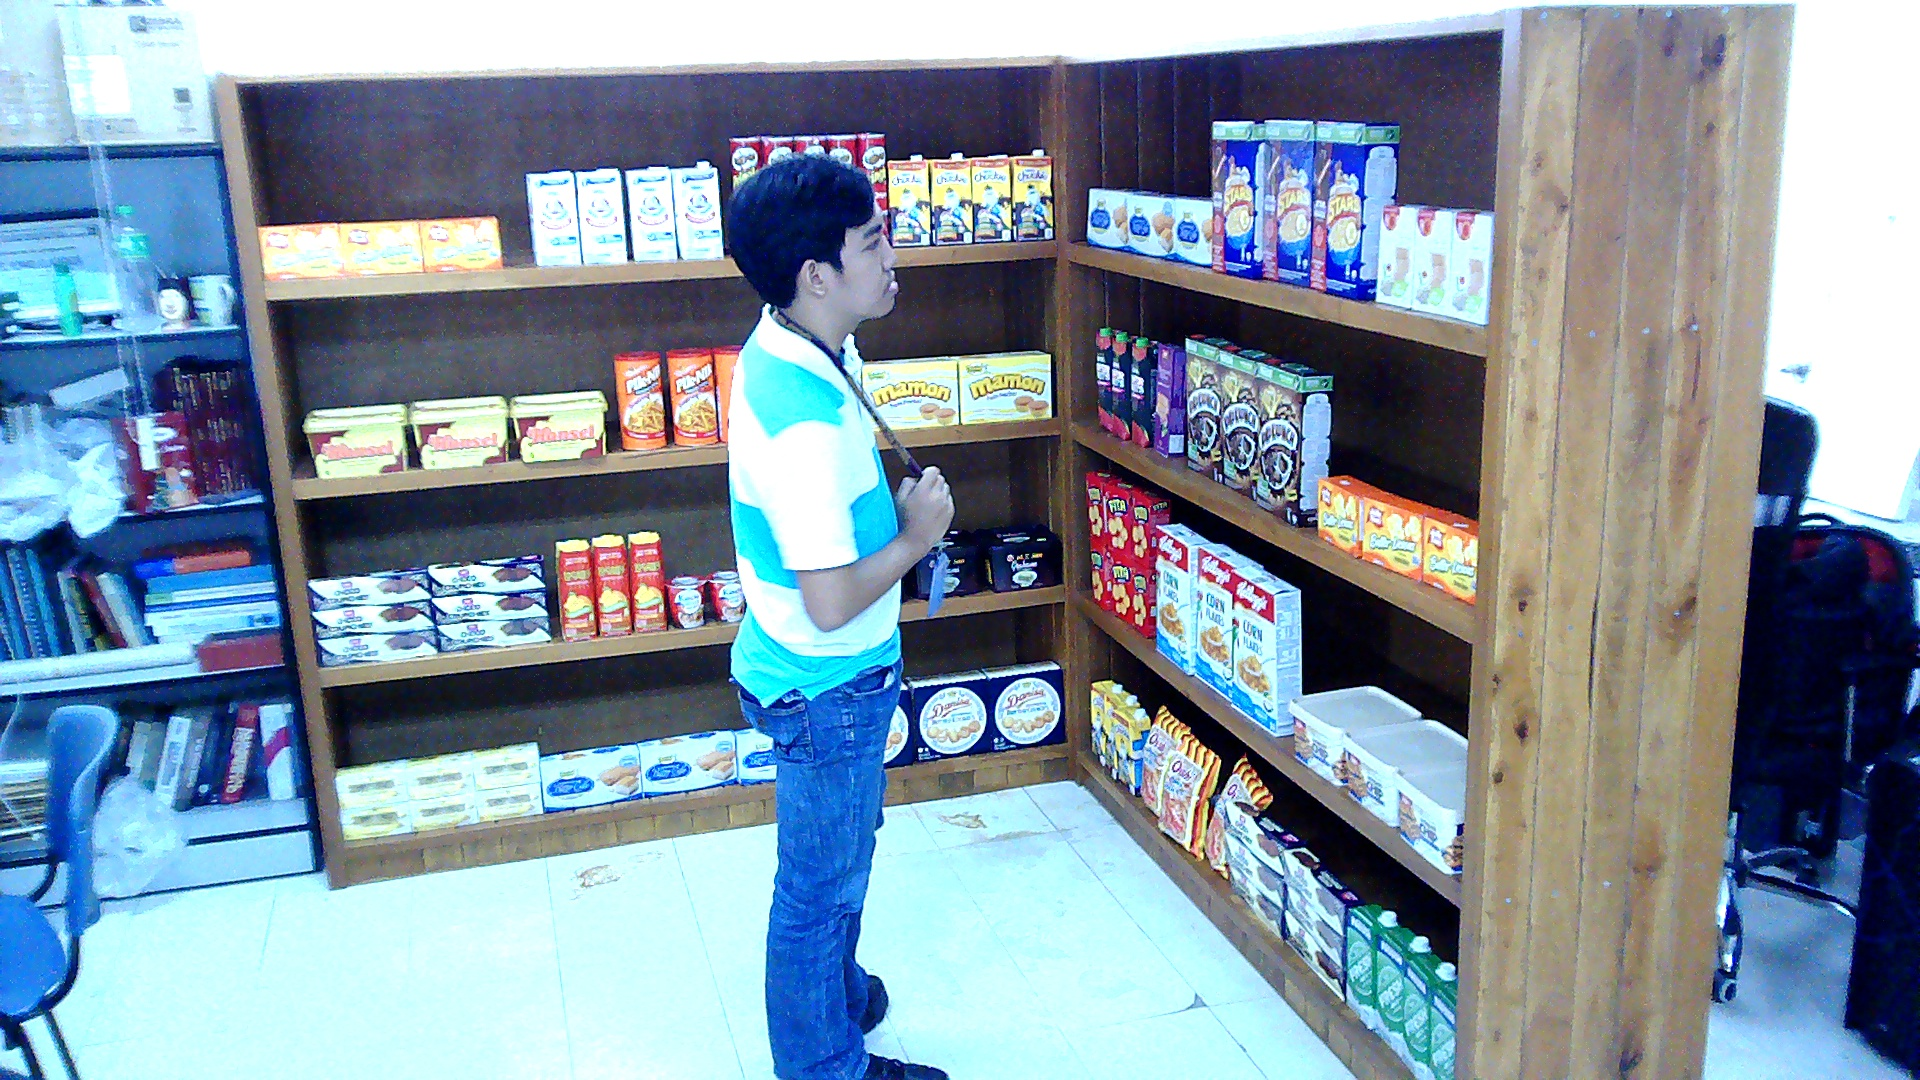Bear brand: (524, 168, 581, 265), (624, 164, 678, 258), (671, 159, 722, 258), (573, 169, 624, 261)
Buttercake: (540, 742, 642, 812), (635, 729, 734, 797), (1086, 189, 1152, 252), (1128, 193, 1185, 261), (732, 727, 777, 783), (1173, 196, 1209, 266)
Butterlicious: (1361, 495, 1448, 578), (1314, 472, 1392, 555), (1422, 513, 1479, 603), (258, 223, 342, 279), (420, 216, 501, 270), (339, 220, 423, 272)
Camomille: (333, 758, 405, 807), (404, 749, 473, 798), (470, 740, 539, 787), (339, 801, 411, 839), (408, 792, 477, 830), (477, 783, 543, 819)
Choco Crunchies: (1283, 846, 1358, 934), (1224, 801, 1305, 873), (1284, 909, 1344, 1001), (309, 566, 429, 609), (426, 551, 546, 594), (309, 601, 435, 639), (1286, 884, 1343, 965), (1224, 833, 1284, 909), (315, 630, 438, 666), (434, 614, 551, 650), (432, 587, 546, 621), (1227, 866, 1281, 938)
Chocolate Chips: (1341, 718, 1467, 826), (1287, 684, 1422, 785), (1392, 756, 1464, 873)
Chuckie: (884, 153, 929, 245), (926, 153, 971, 245), (1011, 147, 1053, 241), (971, 153, 1010, 243), (1104, 691, 1140, 781), (1088, 677, 1121, 765), (1119, 709, 1149, 797)
Danisa: (903, 666, 990, 760), (981, 659, 1065, 751)
Fita: (1131, 485, 1170, 566), (1104, 479, 1140, 553), (1086, 468, 1119, 542), (1131, 563, 1155, 637), (1110, 549, 1131, 623), (1088, 538, 1109, 610)
Fresh Milk: (1374, 927, 1431, 1057), (1344, 902, 1398, 1030), (1401, 952, 1455, 1078), (1427, 980, 1454, 1077)
Grahams: (971, 524, 1058, 592)
Hansel: (300, 403, 408, 479), (404, 396, 509, 468), (509, 389, 608, 461)
Head: (717, 148, 903, 342)
Honey Stars: (1308, 117, 1401, 299), (1263, 116, 1314, 285), (1209, 117, 1260, 279)
Kellogg Corn Flakes: (1230, 564, 1302, 735), (1194, 542, 1260, 699), (1154, 522, 1211, 675)
Kimchi Noodles: (663, 574, 705, 628), (705, 569, 744, 621)
Koko Krunch: (1257, 357, 1332, 526), (1221, 342, 1275, 499), (1185, 330, 1236, 483)
Locally Mango: (555, 537, 597, 640), (591, 533, 630, 639), (627, 530, 666, 629)
Mamon: (951, 349, 1053, 423), (855, 356, 957, 428)
Oishi Prawn: (1206, 752, 1272, 880), (1157, 733, 1220, 859), (1140, 701, 1188, 816)
Pik-nik: (612, 350, 666, 449), (665, 346, 716, 445)
Pringles: (858, 132, 888, 247), (729, 135, 759, 187)
Super Fruits: (1131, 338, 1158, 448), (1095, 324, 1119, 432), (1113, 331, 1137, 439)
Wafer: (1155, 341, 1185, 456)
iHop: (1446, 209, 1494, 324), (1374, 202, 1422, 305), (1410, 202, 1452, 315)
